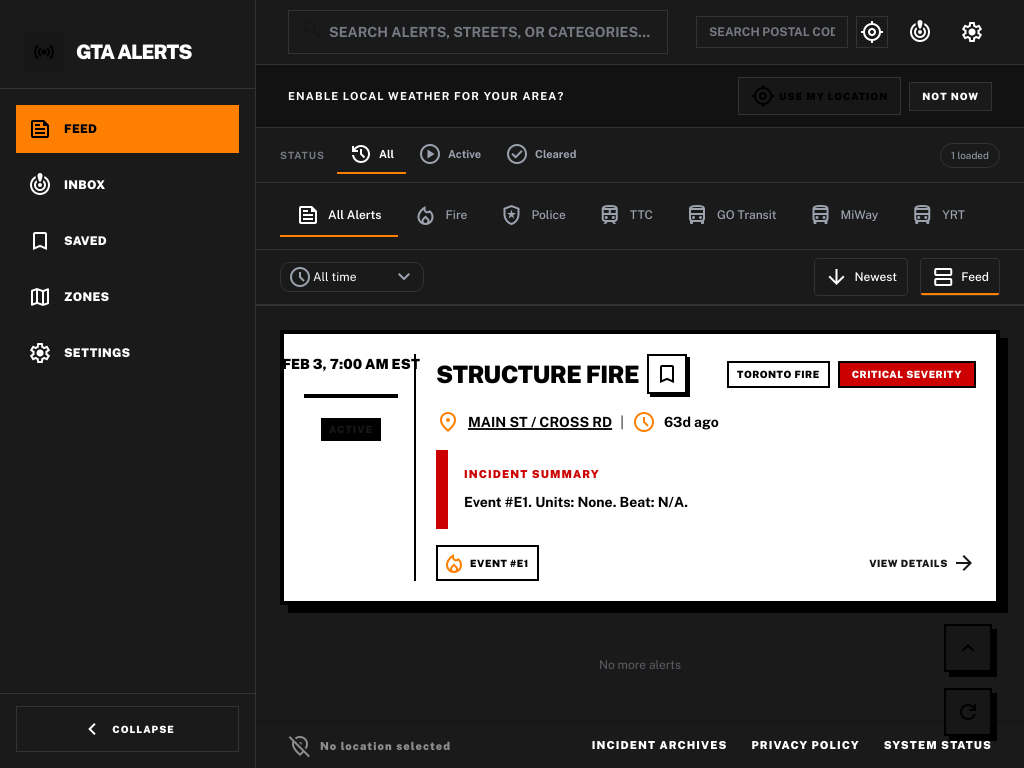
Test: GTA Alerts App (typed domain enforcement boundary) › hides the first-visit weather prompt when Not now is clicked and persists deferred state
Step 1. Click the button "Not now" → (951, 96), box [909,82,992,110]
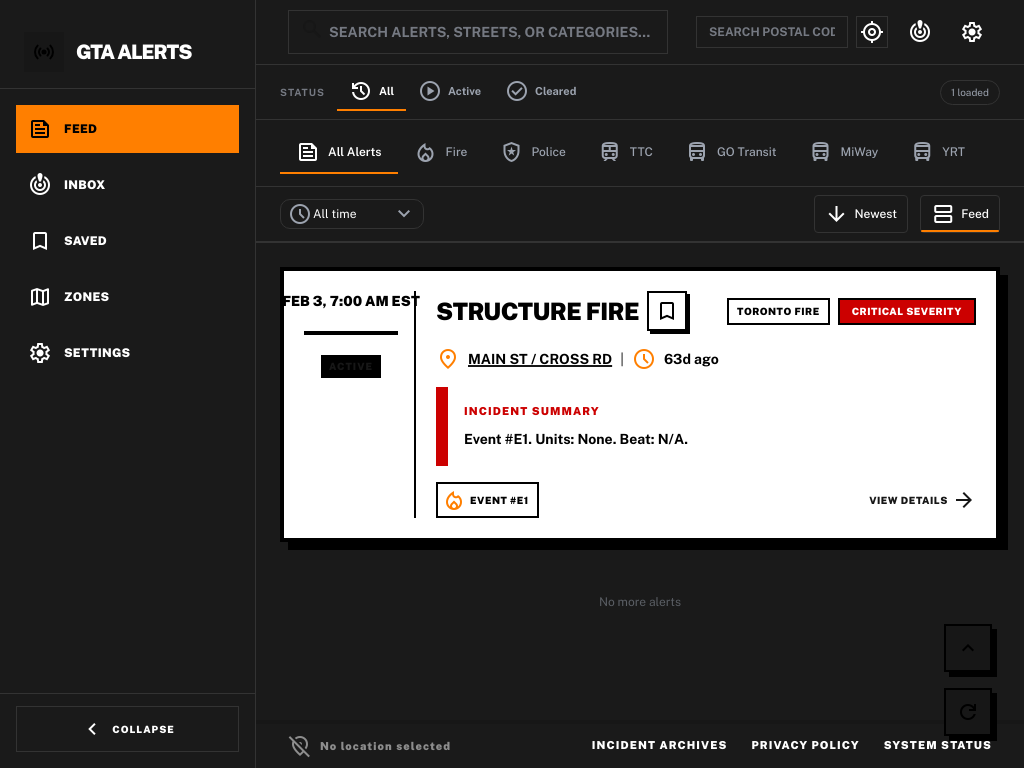
Result: the text "Enable local weather for your area?" is gone
